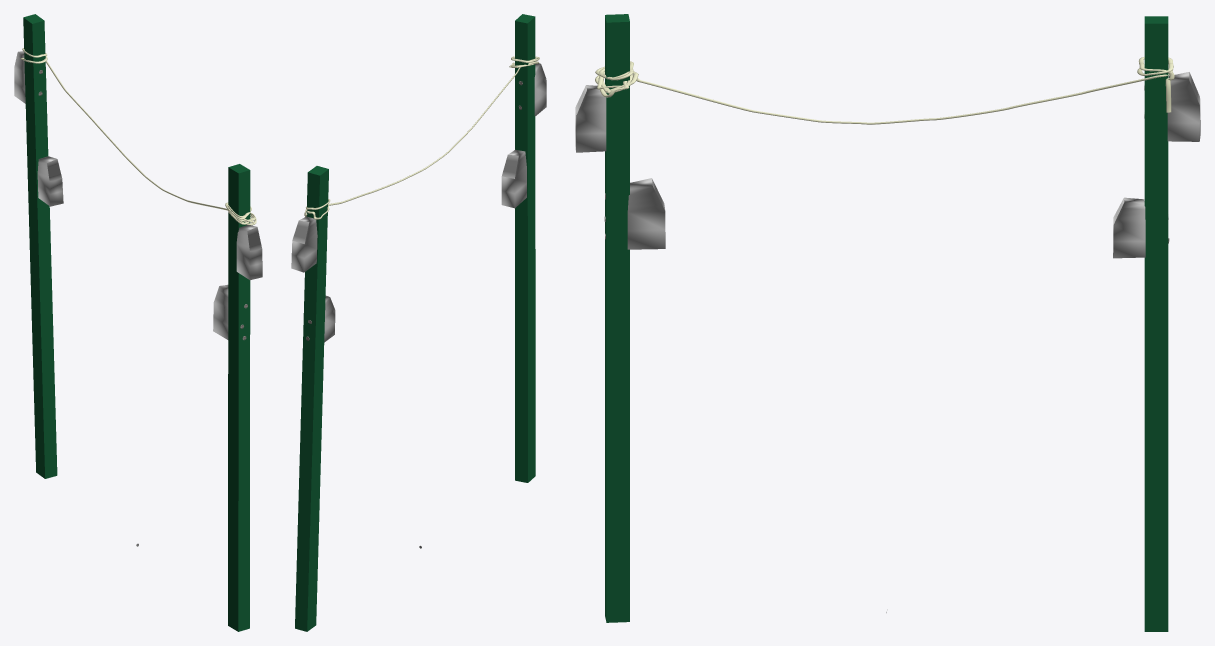
The model's file is VERSION 3.fbx.
The picture shows the model from 3 angles, left to right: view 1: azimuth 30°, elevation 25°; view 2: azimuth 150°, elevation 25°; view 3: azimuth 270°, elevation 25°; orthographic projection. The views are drawn at different scales.
Visible parts, largest first — view 1: Cube.023; view 2: Cube.023; view 3: Cube.023.
Part boxes in pixels (<box>): Cube.023: <box>14,14,262,631</box>; Cube.023: <box>291,14,546,631</box>; Cube.023: <box>575,14,1200,631</box>.
Bounding box in the file's own units: 61.02 × 910 × 857.
